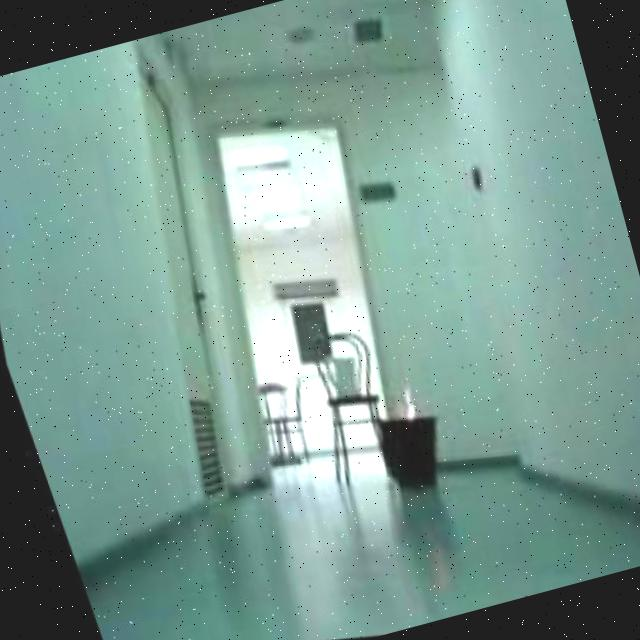fire: (385, 377, 424, 427)
